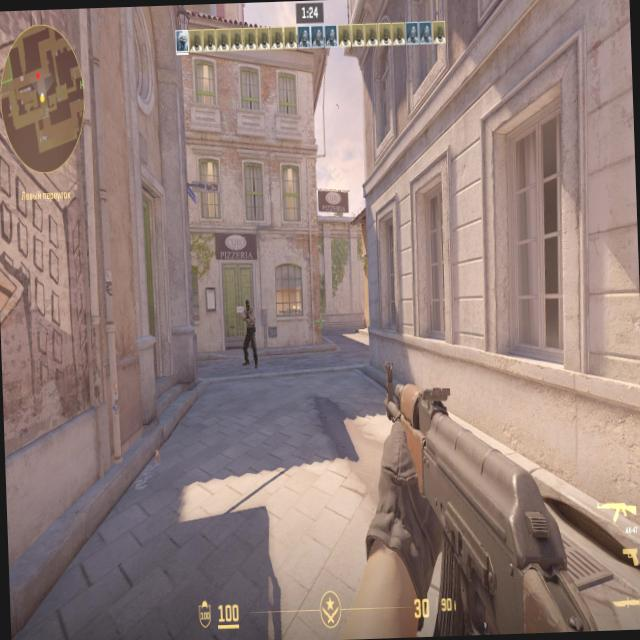T: (243, 297, 260, 362)
T_heat: (244, 299, 250, 314)
